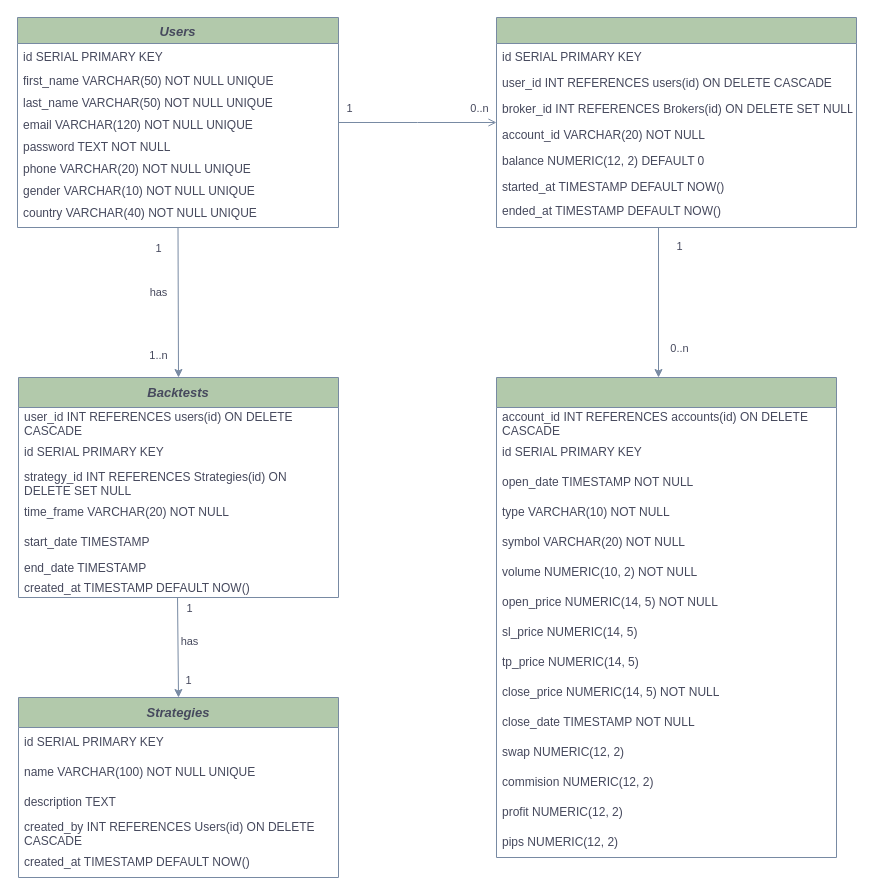
Some shapes in this 874 by 895 pixel diagram are drawn without their labels. The shapes that lost their labels are listed below. From the top down, each one's box as (x1, y1, x2, y2) in pixels, then its label:
(496, 16, 856, 228): Accounts
(496, 376, 836, 858): Trades
